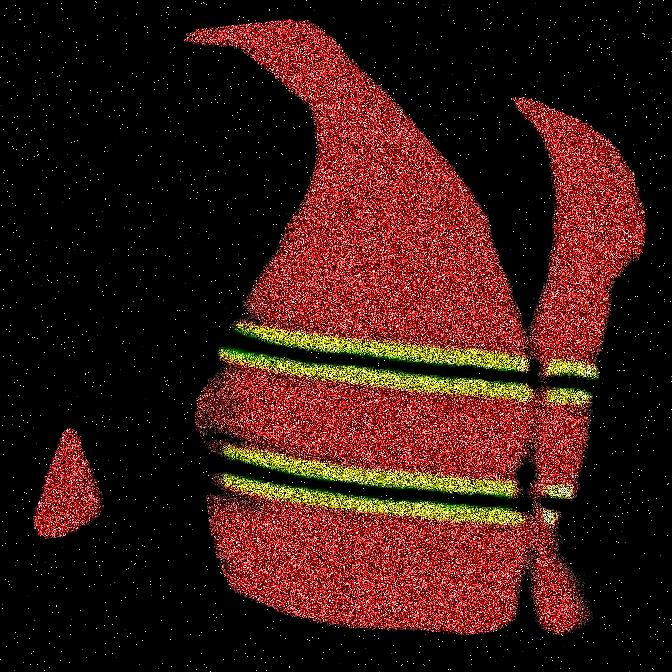Colete: (325, 0, 413, 671)
